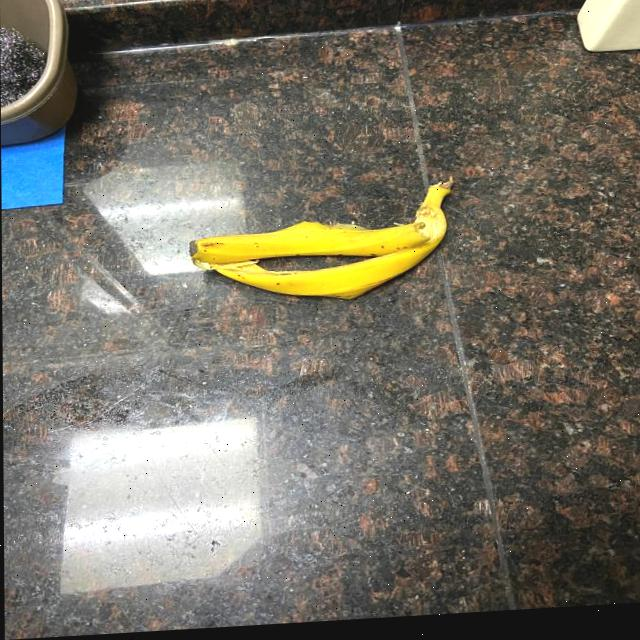banana: (180, 181, 466, 315)
